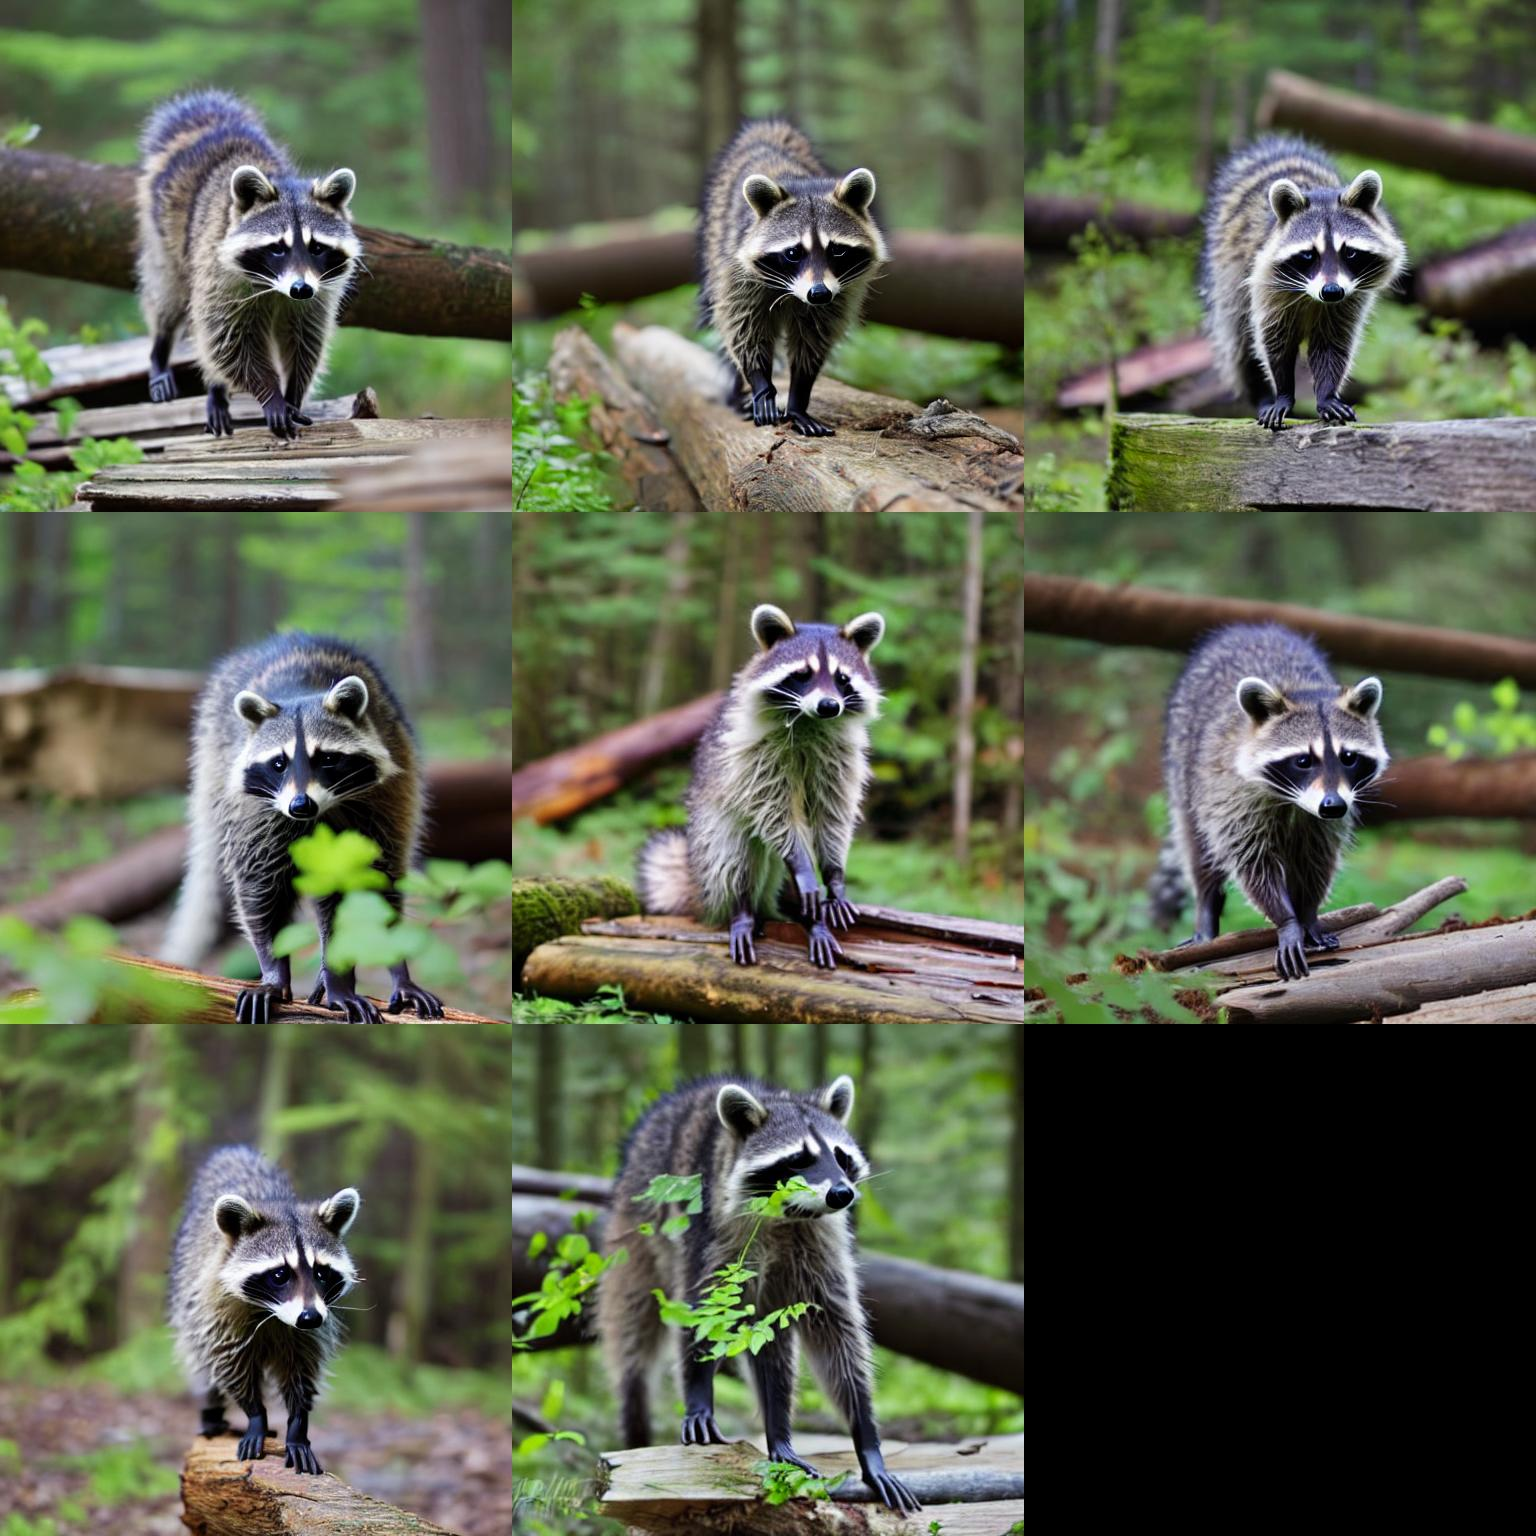raccoon: (588, 1068, 888, 1387), (174, 620, 435, 959), (122, 68, 370, 409), (633, 601, 900, 882), (1158, 605, 1393, 904), (1184, 115, 1418, 402), (688, 100, 897, 415), (155, 1132, 380, 1405)
